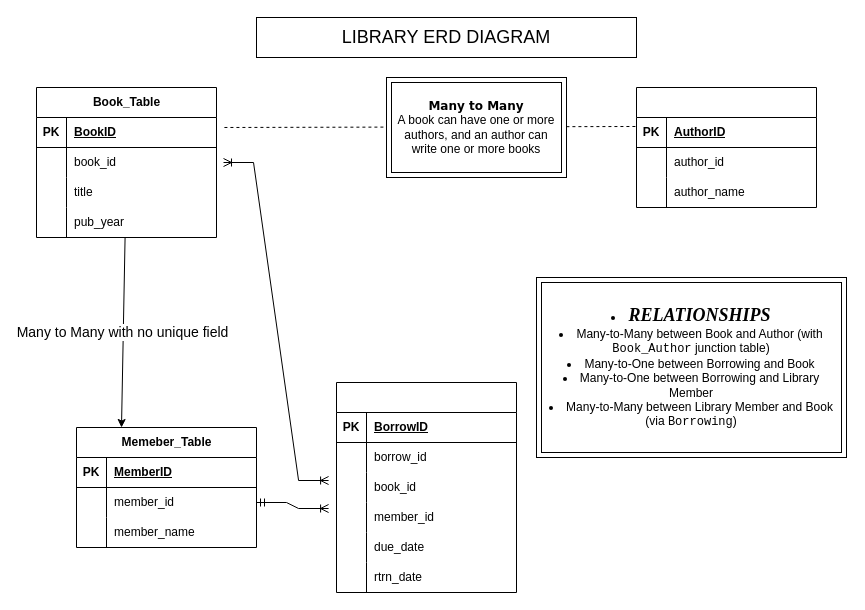
Some shapes in this 865 by 610 pixel diagram are drawn without their labels. Here are the shapes that lost their labels. From the top down, the box of each, then its label:
(636, 86, 816, 208): Author_Table
(336, 382, 516, 592): Borrowing_Table
